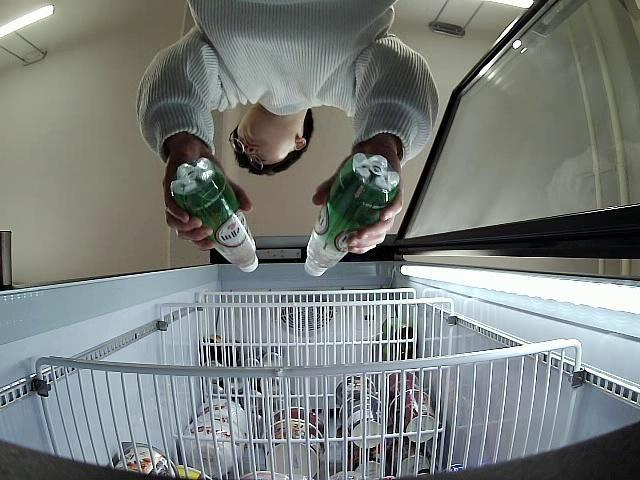18_trevi: (304, 154, 400, 278), (170, 158, 260, 274)
